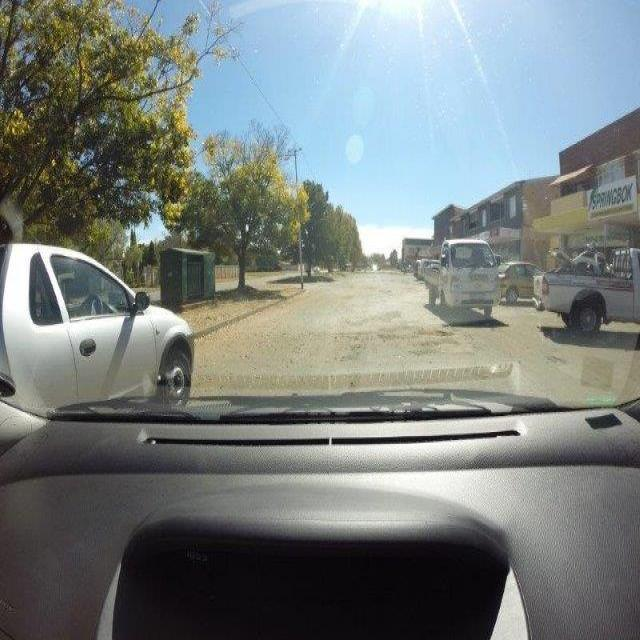lubang: (409, 323, 454, 356)
